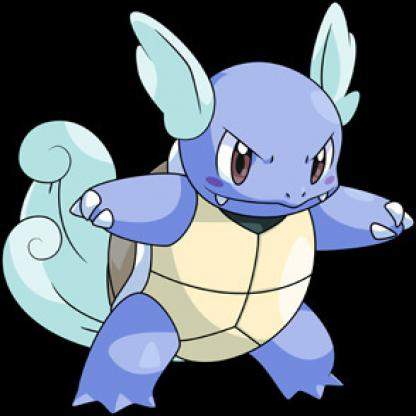Wartortle: (1, 4, 416, 403)
